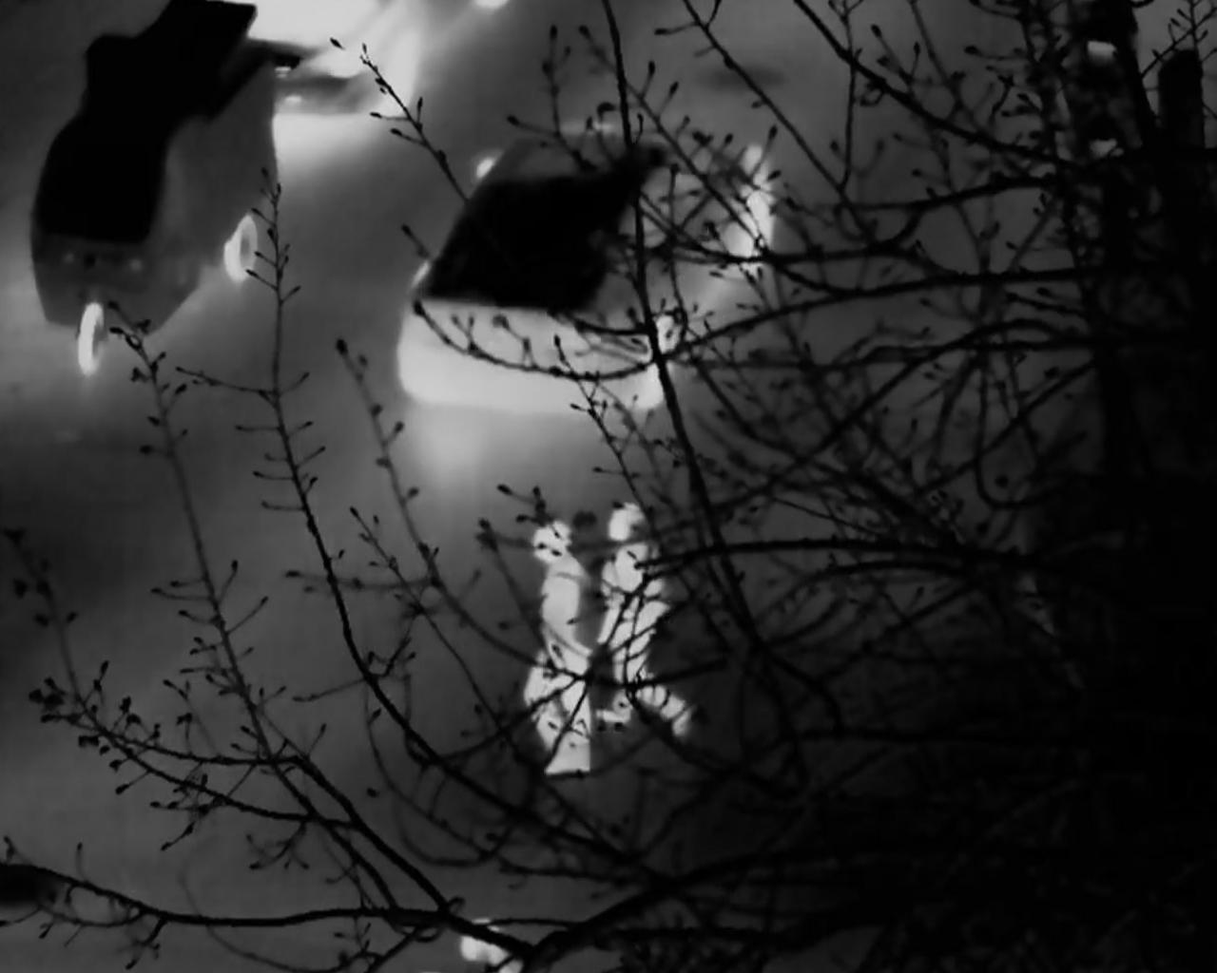person: (596, 494, 695, 733), (531, 527, 592, 780)
